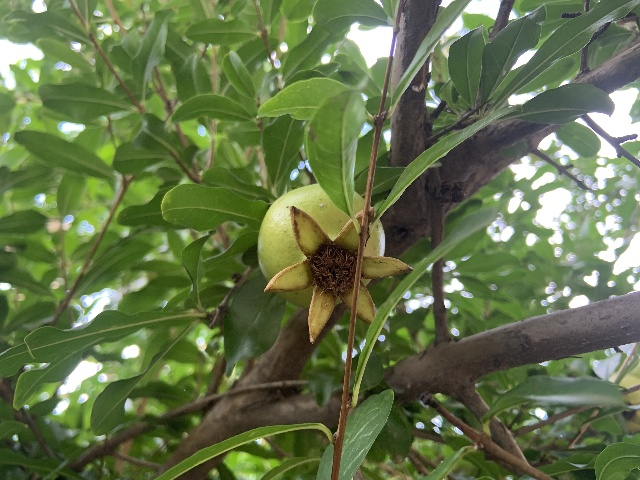mid-growth: (256, 182, 412, 343)
